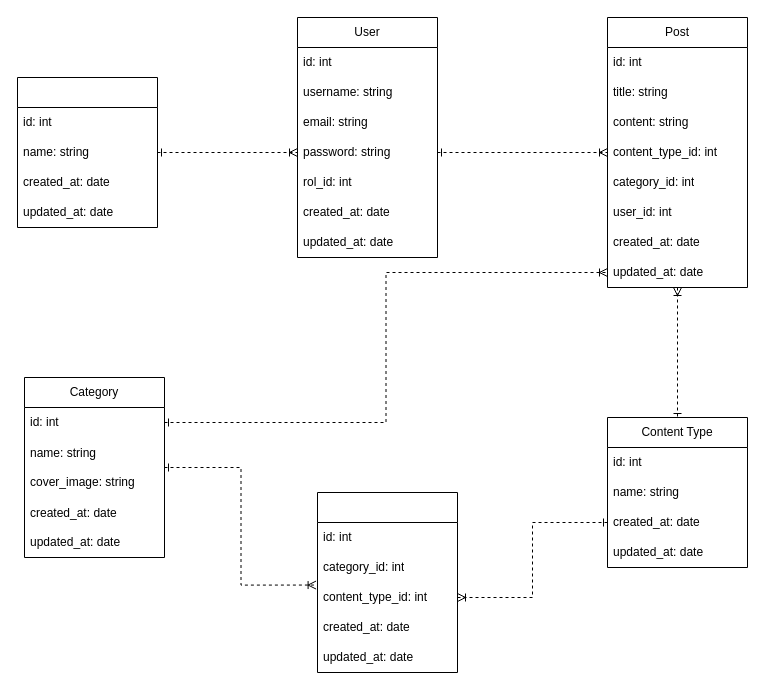
Some shapes in this 765 by 690 pixel diagram are drawn without their labels. The shapes that lost their labels are listed below. From the top down, each one's box as (x1, y1, x2, y2) in pixels, then its label:
(16, 76, 158, 228): Rol
(316, 492, 458, 672): Allowed Content Type
